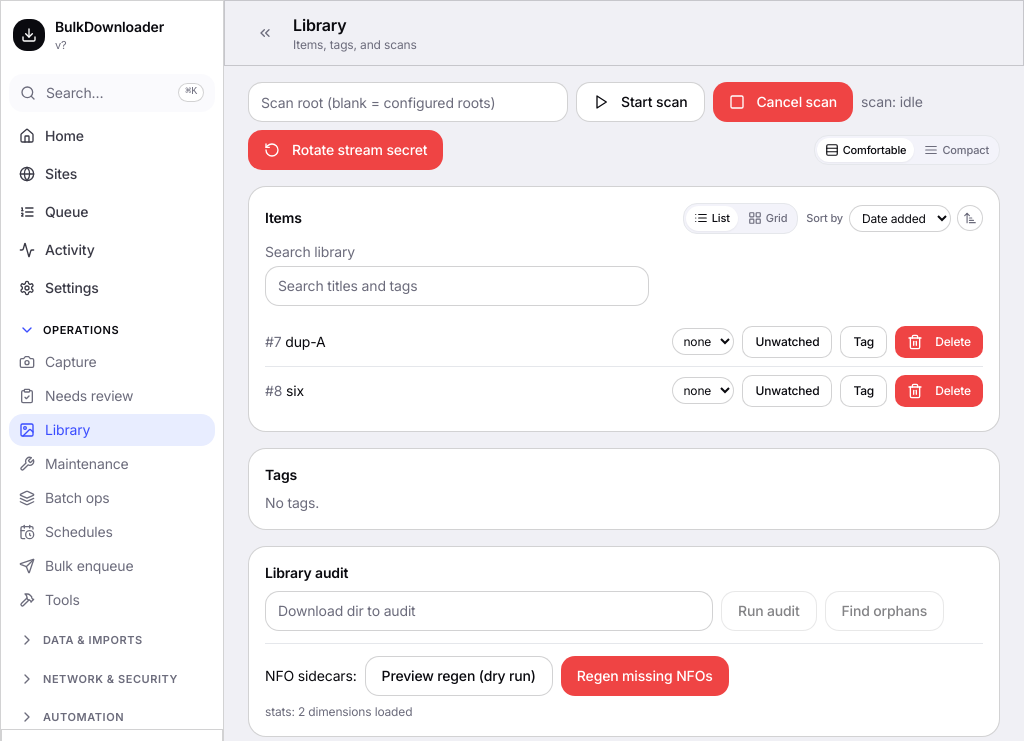
Test: library-fix F11 a repeated item id leaves no ghost row › after a refetch without the repeated id, its rows are gone
Click the 2nd button "Delete" at (939, 390), box [895, 374, 983, 406]
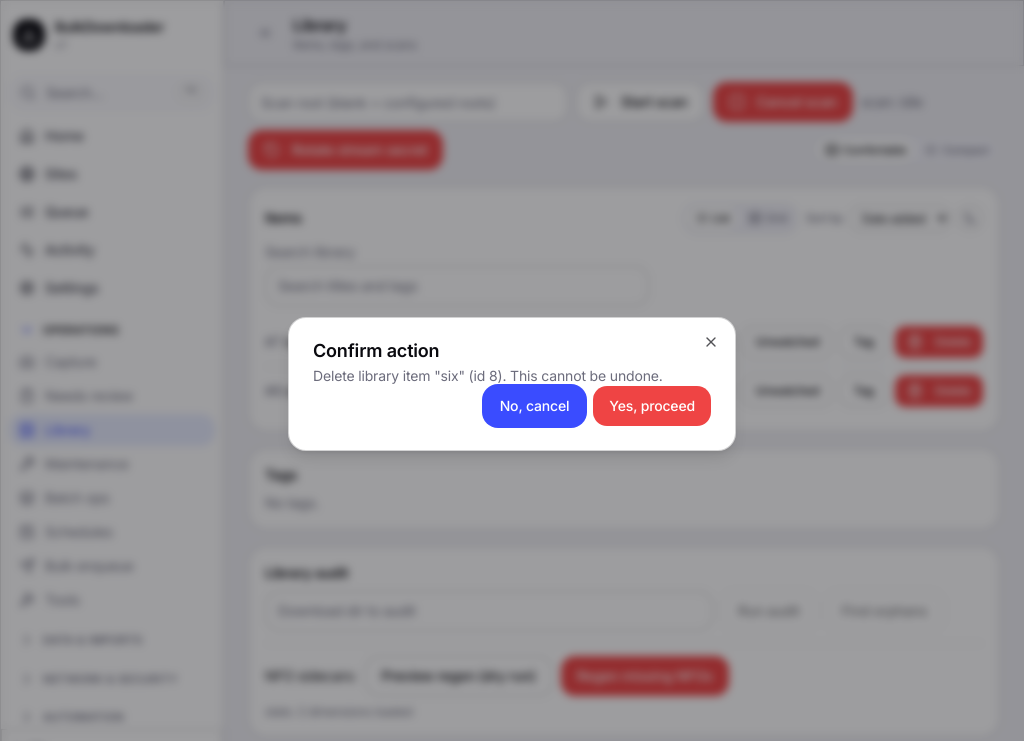
Click the button "Yes, proceed" at (652, 406), box [593, 386, 711, 426]
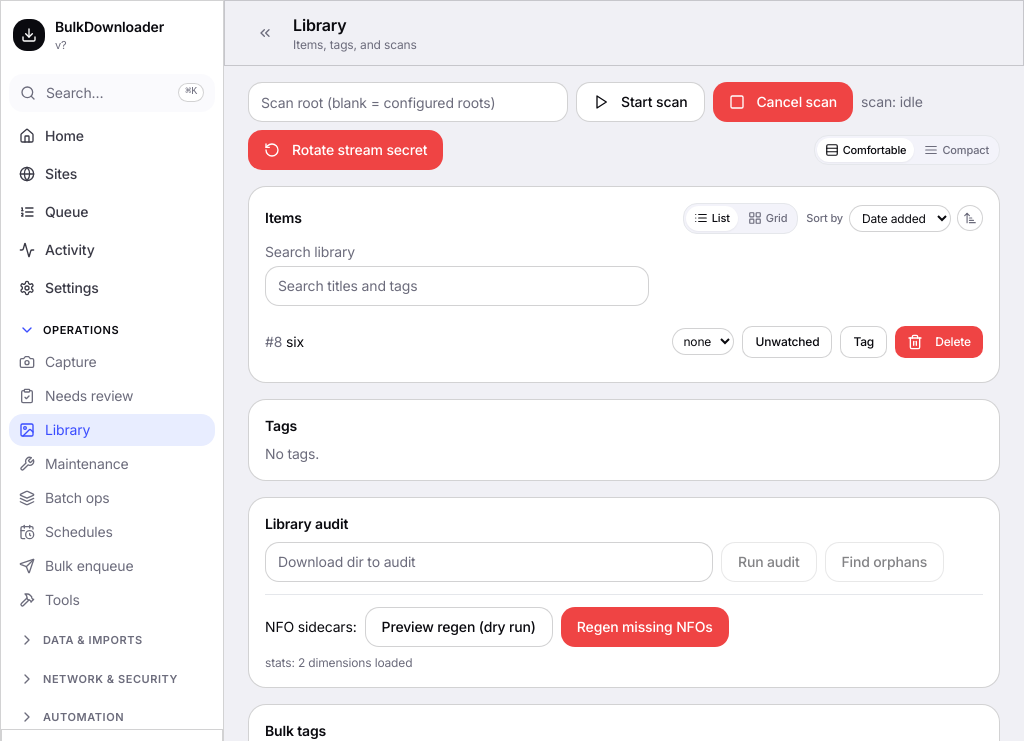
Now the button "dup-A" is gone
Now the number of buttons titled "Show details" is 1, box [286, 332, 304, 352]
